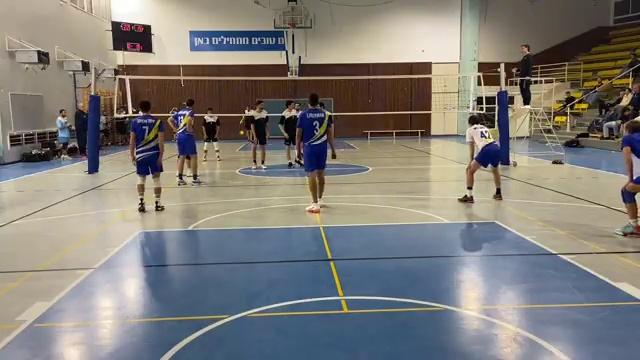ball: (240, 130, 246, 137)
